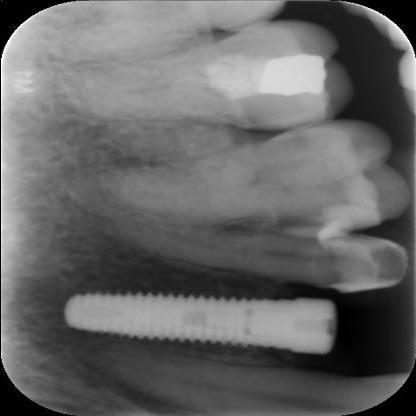Bego: (54, 262, 338, 369)
